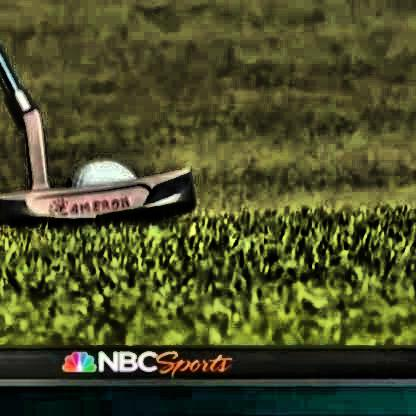golfball: (65, 172, 133, 203)
